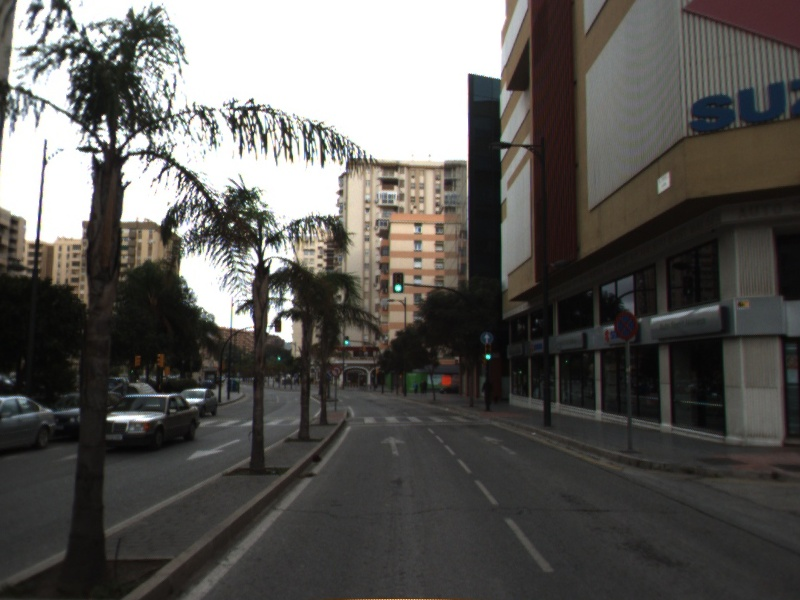STRAIGHT: (482, 434, 520, 457), (378, 433, 409, 458)
